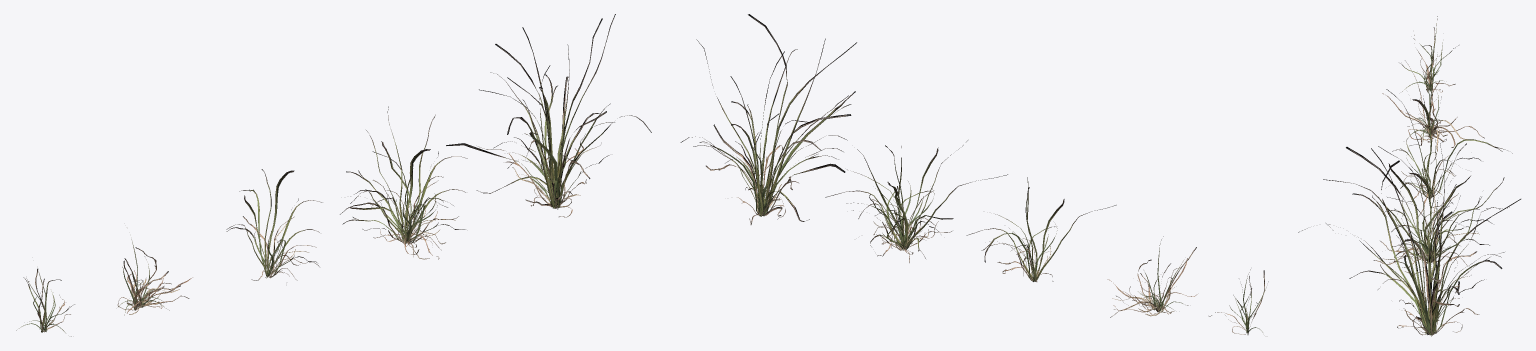
File: grass_medium_02.glb
3 renders of one model, left to right at view 1: azimuth 30°, elevation 25°; view 2: azimuth 150°, elevation 25°; view 3: azimuth 270°, elevation 25°, orthographic. The views are drawn at different scales.
Parts seen in each view (by area): view 1: grass_medium_02_a; view 2: grass_medium_02_a; view 3: grass_medium_02_a.
Boxes of the visible parts, box(x1,y1,x2,y2) form: grass_medium_02_a: box(16, 14, 651, 336); grass_medium_02_a: box(680, 14, 1268, 334); grass_medium_02_a: box(1298, 16, 1520, 336).
Bounding box in the file's own units: 1.31 × 0.4053 × 0.4333.
Materials: 1 (1 with a texture image).
